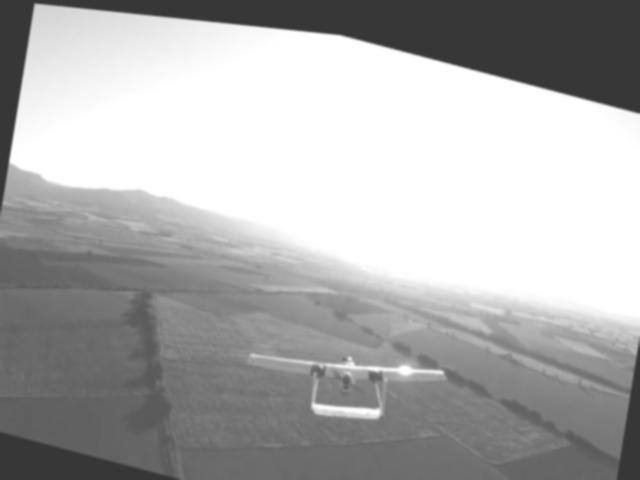hedef: (230, 301, 452, 454)
